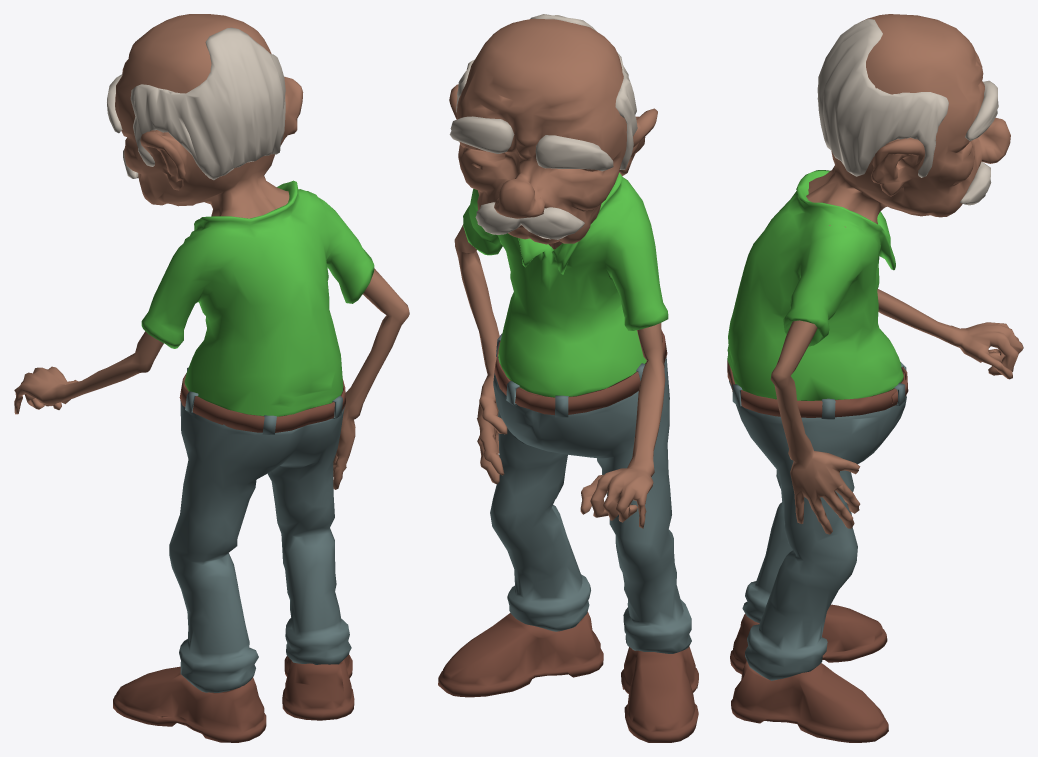
The model's file is LowPollyOldMan(Broken).fbx.
The picture shows the model from 3 angles, left to right: view 1: azimuth 30°, elevation 25°; view 2: azimuth 150°, elevation 25°; view 3: azimuth 270°, elevation 25°; orthographic projection. The views are drawn at different scales.
Parts seen in each view (by area): view 1: OldMan; view 2: OldMan; view 3: OldMan.
Boxes of the visible parts, x1,y1,x2,y2 form: OldMan: (14, 14, 409, 742); OldMan: (438, 14, 698, 742); OldMan: (727, 14, 1023, 742).
Bounding box in the file's own units: 385 × 836 × 339.
